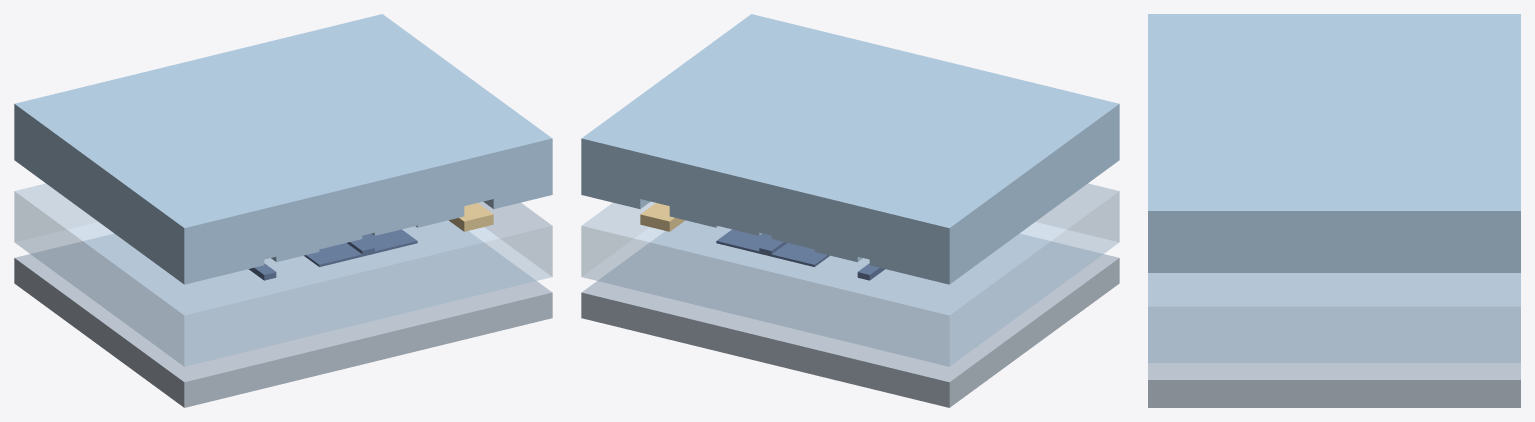
Rendered from stack-waveguides-x.glb.
3 renders of one model, left to right at view 1: azimuth 30°, elevation 25°; view 2: azimuth 150°, elevation 25°; view 3: azimuth 270°, elevation 25°, orthographic. The views are drawn at different scales.
Parts seen in each view (by area): view 1: cladd, sisub, box, siwg, sinwg; view 2: cladd, sisub, box, siwg, sinwg; view 3: cladd, sisub, box.
Part boxes in pixels (bbox=[...]): cladd: bbox=[14, 14, 552, 284]; sisub: bbox=[14, 220, 552, 407]; box: bbox=[14, 183, 552, 366]; siwg: bbox=[248, 229, 417, 280]; sinwg: bbox=[449, 203, 493, 231]; cladd: bbox=[581, 14, 1119, 284]; sisub: bbox=[581, 220, 1119, 407]; box: bbox=[581, 183, 1119, 366]; siwg: bbox=[716, 229, 885, 280]; sinwg: bbox=[640, 203, 684, 231]; cladd: bbox=[1148, 14, 1520, 272]; sisub: bbox=[1148, 273, 1520, 407]; box: bbox=[1148, 273, 1520, 362].
Size of the model in its own units: 15 by 7 by 12.
